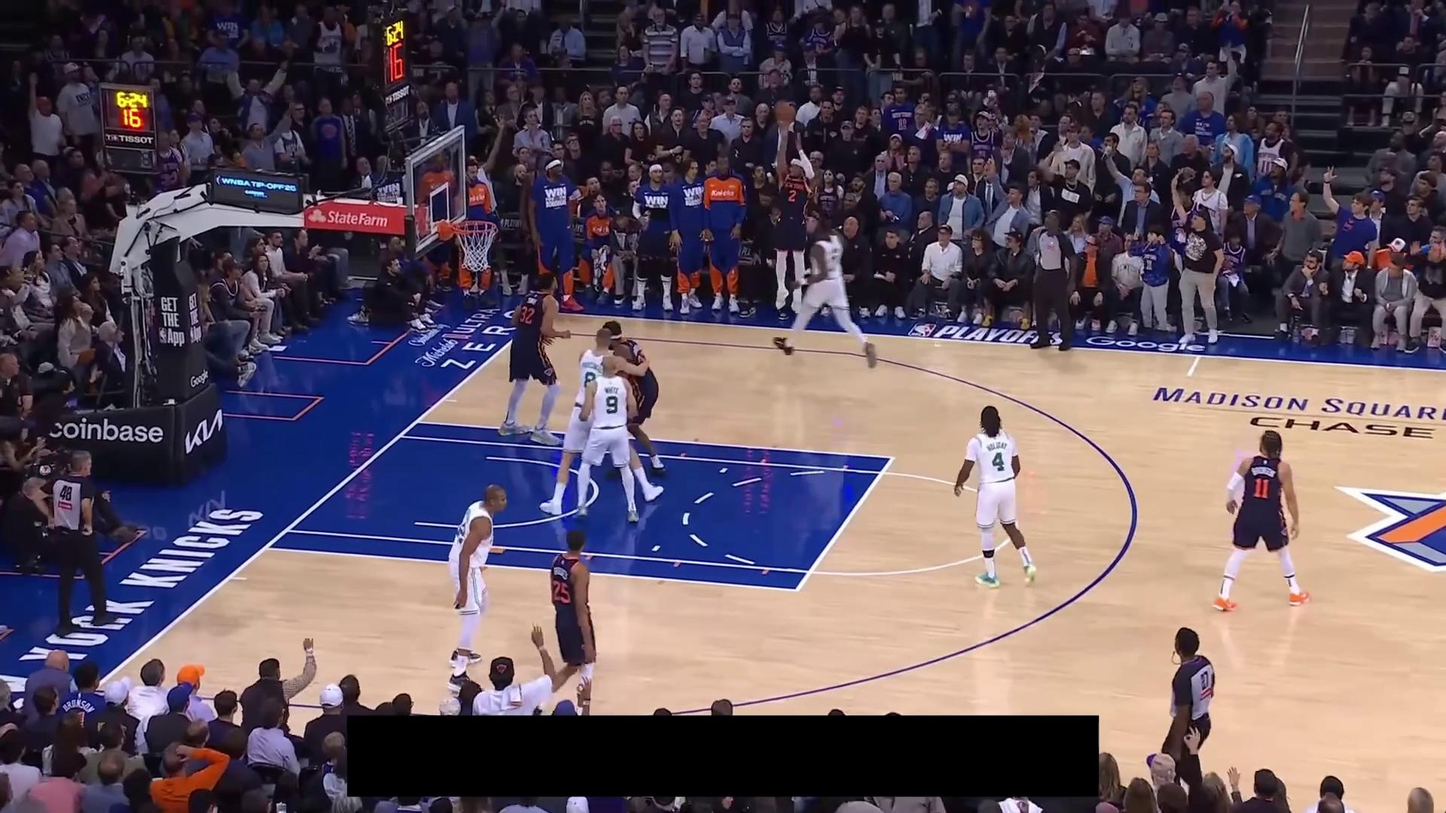ball: (773, 99, 796, 124)
number: (553, 579, 571, 604), (1252, 477, 1271, 500), (991, 451, 1006, 472), (520, 305, 535, 325), (583, 370, 596, 389), (606, 395, 618, 415), (787, 189, 797, 202)
player: (540, 327, 664, 516), (1213, 428, 1312, 612), (772, 215, 879, 369), (953, 404, 1038, 589), (496, 271, 573, 446), (444, 482, 507, 671), (573, 355, 639, 523), (603, 320, 668, 478), (548, 528, 600, 715)
player-jump-shot: (771, 123, 819, 316)
referee: (33, 450, 121, 637), (1159, 627, 1216, 790), (1030, 209, 1078, 354)
rim: (453, 218, 498, 235)
